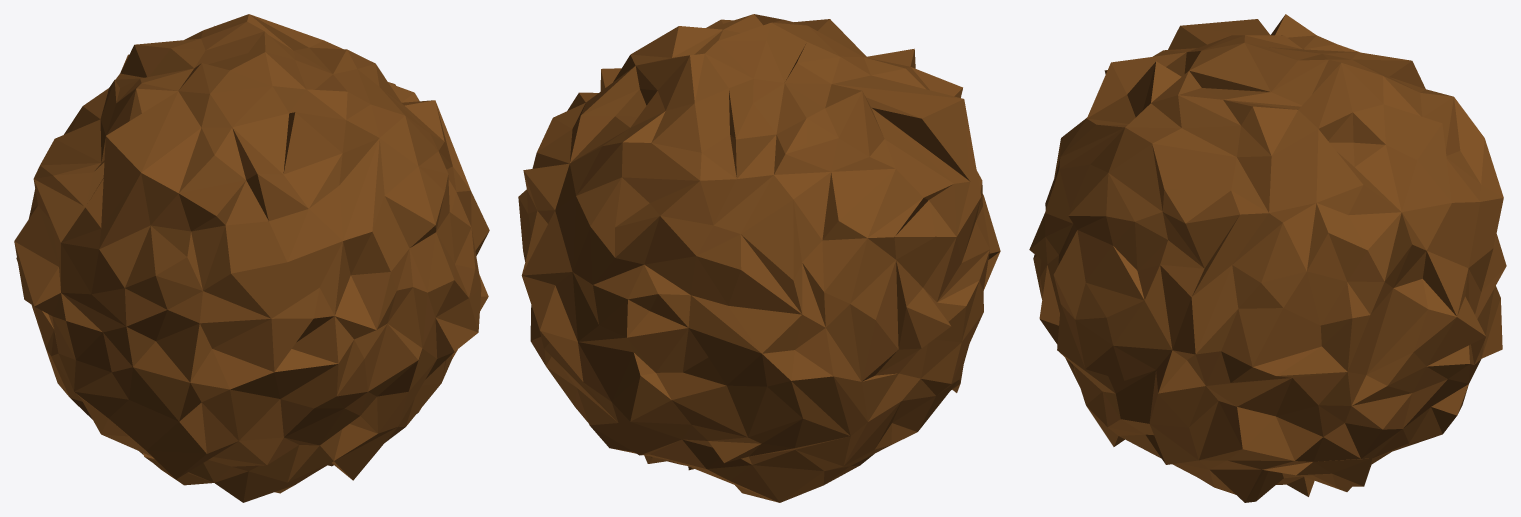
Rendered from Asteroid.fbx.
3 renders of one model, left to right at view 1: azimuth 30°, elevation 25°; view 2: azimuth 150°, elevation 25°; view 3: azimuth 270°, elevation 25°, orthographic. The views are drawn at different scales.
Parts seen in each view (by area): view 1: Icosphere; view 2: Icosphere; view 3: Icosphere.
Part boxes in pixels (box(x1,y1,x2,y2)): Icosphere: box(14, 14, 489, 502); Icosphere: box(518, 14, 1000, 502); Icosphere: box(1029, 14, 1506, 502).
Bounding box in the file's own units: 207158 × 205273 × 204753.
